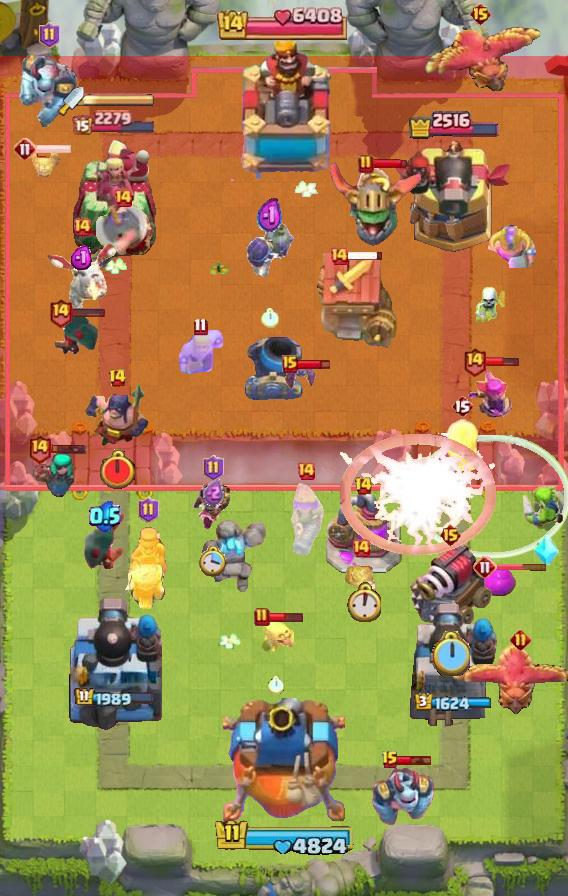archer-evolution: (465, 365, 520, 431)
bandit: (80, 510, 130, 574), (53, 308, 99, 356)
bar: (494, 562, 548, 571), (296, 358, 331, 371), (50, 443, 87, 455), (35, 143, 72, 155), (397, 754, 433, 766), (70, 306, 106, 318), (372, 158, 408, 170), (269, 611, 304, 623), (485, 356, 520, 368), (347, 250, 384, 261)
bar-level: (27, 433, 52, 464), (462, 346, 487, 377), (48, 297, 73, 328), (473, 555, 497, 579), (13, 137, 37, 161), (439, 523, 462, 547), (469, 2, 492, 26), (138, 497, 159, 523), (203, 455, 224, 481), (39, 22, 60, 48), (451, 394, 473, 418), (510, 629, 531, 650), (351, 538, 371, 558), (296, 461, 316, 481), (329, 246, 349, 266), (72, 217, 92, 237), (113, 188, 133, 208), (354, 476, 373, 496), (108, 368, 127, 388), (381, 750, 399, 770), (254, 607, 270, 627), (358, 154, 374, 174), (282, 355, 298, 373), (193, 317, 208, 336)
barbarian: (174, 328, 226, 374)
bat: (283, 363, 317, 391)
bomber-evolution: (243, 217, 297, 279)
cannoneer-tower: (392, 138, 514, 256), (66, 595, 162, 731), (408, 599, 498, 731)
clock: (431, 631, 470, 676), (98, 449, 137, 491), (346, 582, 381, 622), (199, 546, 227, 578), (261, 308, 279, 328), (268, 676, 284, 694)
dagger-duchess-tower: (70, 138, 158, 256)
dagger-duchess-tower-bar: (84, 93, 156, 107)
elite-barbarian: (487, 225, 536, 268)
elixir: (89, 500, 121, 532), (257, 197, 283, 236), (70, 245, 94, 271), (203, 479, 224, 506)
elixir-golem-small: (484, 566, 516, 596)
executioner: (83, 379, 151, 449), (90, 204, 156, 270)
goblin: (520, 484, 568, 528)
golemite: (196, 517, 270, 599)
heal-spirit: (256, 618, 296, 652)
ice-spirit-evolution-symbol: (534, 535, 560, 567)
king-tower: (228, 41, 340, 181), (223, 698, 345, 826)
king-tower-bar: (210, 817, 358, 859), (217, 6, 351, 40)
lava-pup: (25, 146, 63, 178), (343, 562, 379, 594)
little-prince: (193, 484, 233, 532)
mega-minion: (18, 53, 80, 131), (368, 761, 436, 827)
mortar: (243, 336, 303, 400)
musketeer: (285, 479, 327, 559)
ram-rider: (125, 526, 171, 610)
rascal-girl: (31, 451, 75, 497)
royal-hog: (444, 416, 480, 476)
skeleton: (475, 286, 507, 322)
tower-bar: (407, 109, 500, 140), (72, 109, 157, 135), (74, 687, 155, 709), (414, 692, 492, 712)
